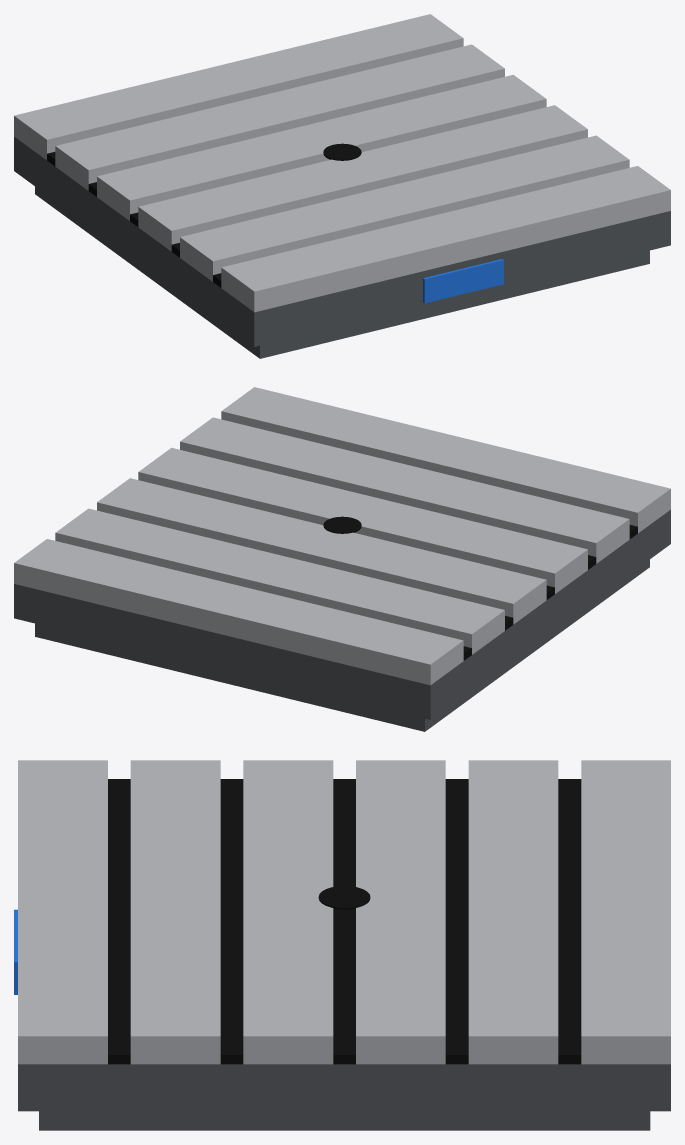
File: pallet_A.glb
3 renders of one model, top to bottom at view 1: azimuth 30°, elevation 25°; view 2: azimuth 150°, elevation 25°; view 3: azimuth 270°, elevation 25°, orthographic. The views are drawn at different scales.
Visible parts, largest first — view 1: pallet_body__steel, pallet_body__steel_dark, pallet_body__yellow, pallet_body__rubber; view 2: pallet_body__steel, pallet_body__steel_dark, pallet_body__rubber; view 3: pallet_body__steel, pallet_body__steel_dark, pallet_body__rubber.
Part boxes in pixels (x1,y1,x2,y2): pallet_body__steel: (14, 14, 670, 312); pallet_body__steel_dark: (14, 136, 670, 358); pallet_body__yellow: (423, 259, 503, 303); pallet_body__rubber: (47, 143, 361, 287); pallet_body__steel: (14, 387, 670, 685); pallet_body__steel_dark: (14, 509, 670, 731); pallet_body__rubber: (323, 516, 637, 660); pallet_body__steel: (18, 760, 670, 1064); pallet_body__steel_dark: (18, 1064, 670, 1130); pallet_body__rubber: (108, 779, 581, 1064).
Size of the model in its own units: 0.63 by 0.1115 by 0.634.
